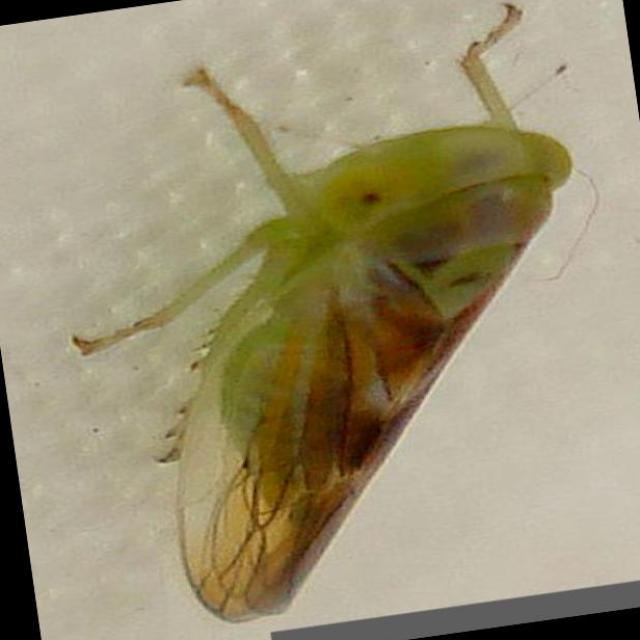green leaf hopper: (73, 4, 570, 619)
